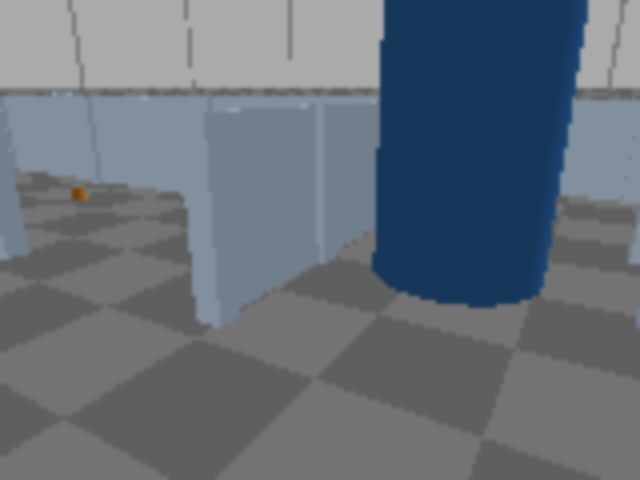person: (380, 0, 638, 301)
